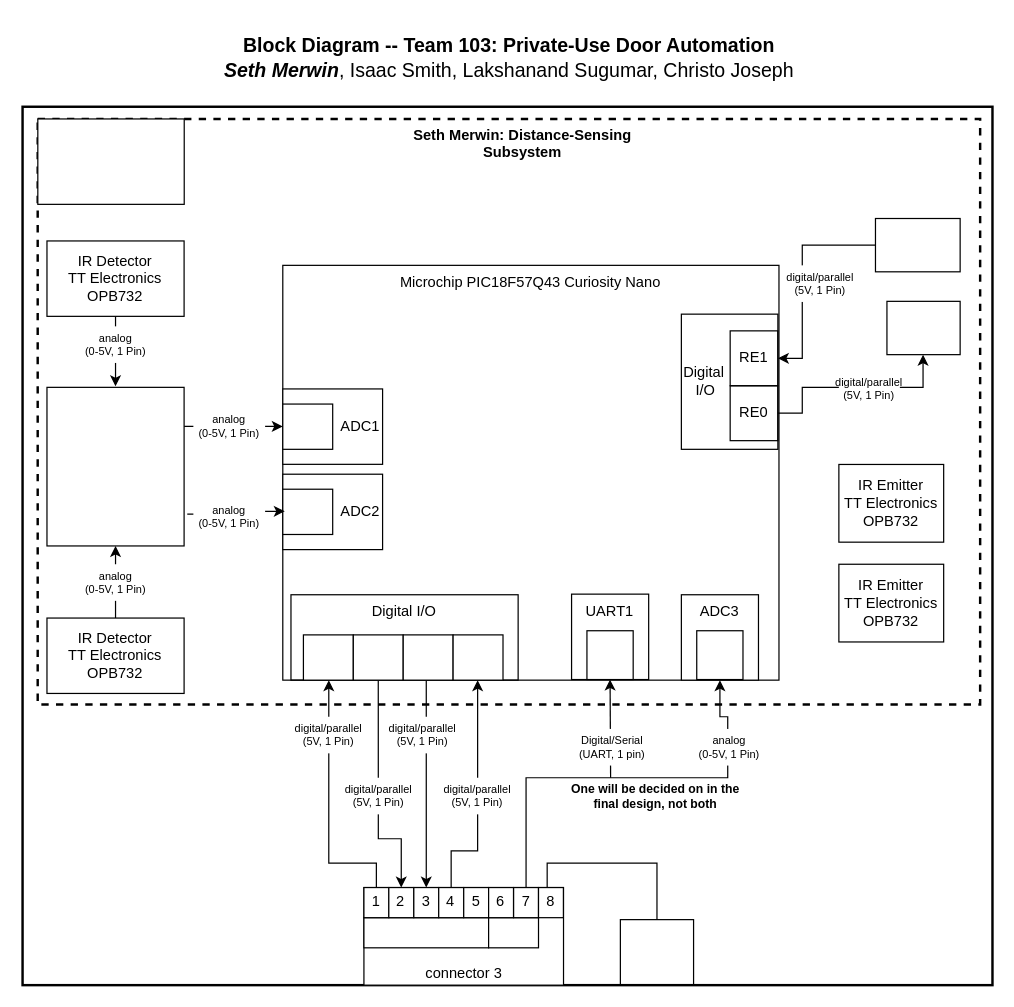
Some shapes in this 1014 by 1007 pixel diagram are drawn without their labels. Each missing label, with the centre of its shape:
"5V 1.5A Voltage Regulator TAEJIN LM7805T" belongs at [110,161].
"analog" belongs at [513,932].
"Blue LED" belongs at [923,327].
"digital" belongs at [426,932].
"GND" belongs at [656,951].
"Op Amp (Inverting) Microchip MCP6004" belongs at [115,466].
"Pushbutton" belongs at [917,244].
"RA0" belongs at [307,426].
"RA1" belongs at [307,511].
"RA2" belongs at [719,655].
"RB5" belongs at [327,657].
"RD5" belongs at [427,657].
"RD6" belongs at [377,657].
"RF1" belongs at [609,655].
"RF7" belongs at [477,657].
